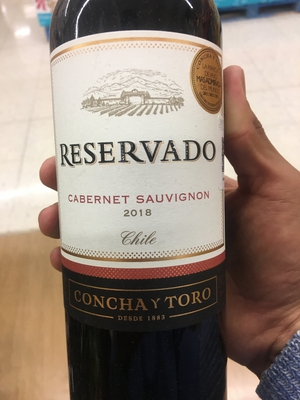reservado cabernet sauvignon: (40, 3, 235, 400)
